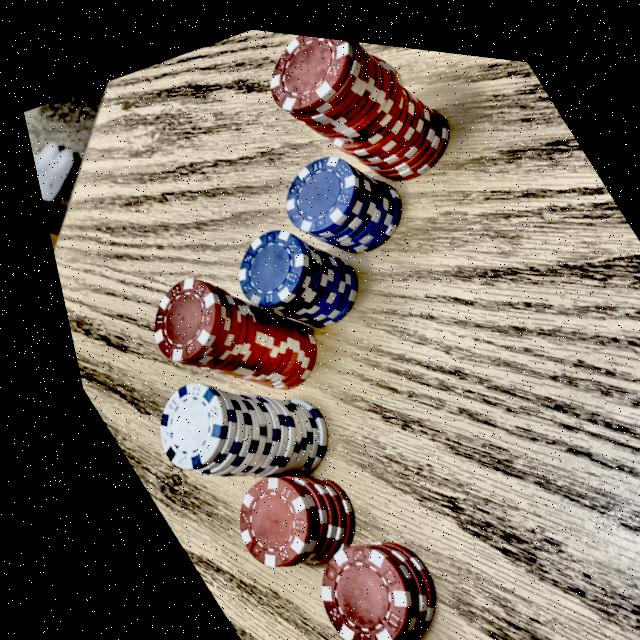Chip: (91, 305, 356, 535), (98, 218, 345, 451), (231, 22, 484, 232), (172, 420, 386, 612), (180, 177, 389, 372), (237, 109, 435, 286), (241, 486, 464, 640)
